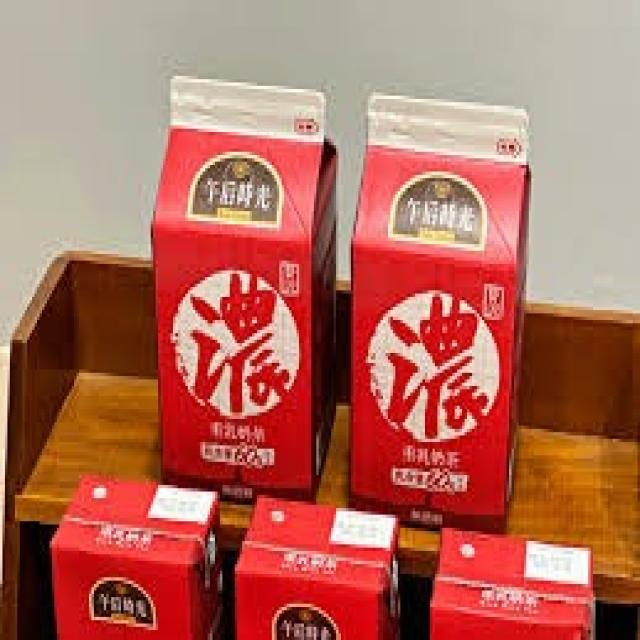Known_MilkTea: (162, 69, 329, 501), (357, 90, 519, 526), (59, 476, 216, 640), (238, 497, 400, 640), (432, 528, 598, 640)
